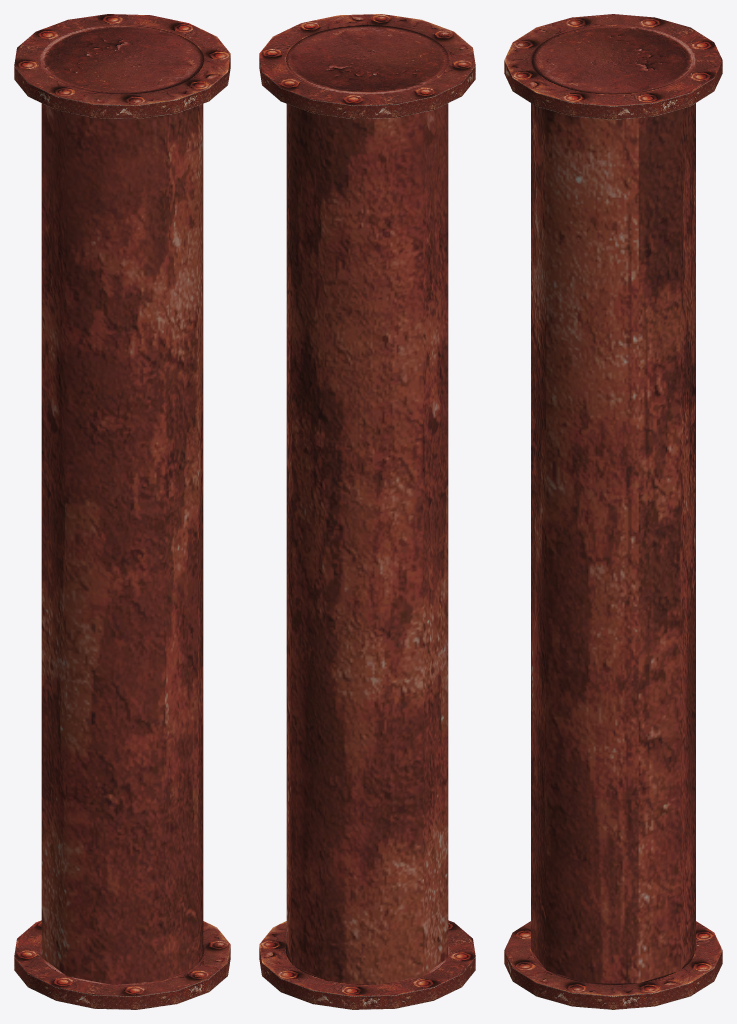
The model's file is 3m_red.DAE.
The picture shows the model from 3 angles, left to right: view 1: azimuth 30°, elevation 25°; view 2: azimuth 150°, elevation 25°; view 3: azimuth 270°, elevation 25°; orthographic projection.
Parts seen in each view (by area): view 1: Object335, Object378; view 2: Object335, Object378; view 3: Object335, Object378.
Part boxes in pixels (x1,y1,x2,y2): Object335: (41, 103, 203, 985); Object378: (14, 14, 230, 1009); Object335: (286, 103, 448, 985); Object378: (259, 14, 475, 1009); Object335: (531, 103, 695, 983); Object378: (504, 14, 722, 1009).
Bounding box in the file's own units: 0.6566 × 0.6566 × 3.
